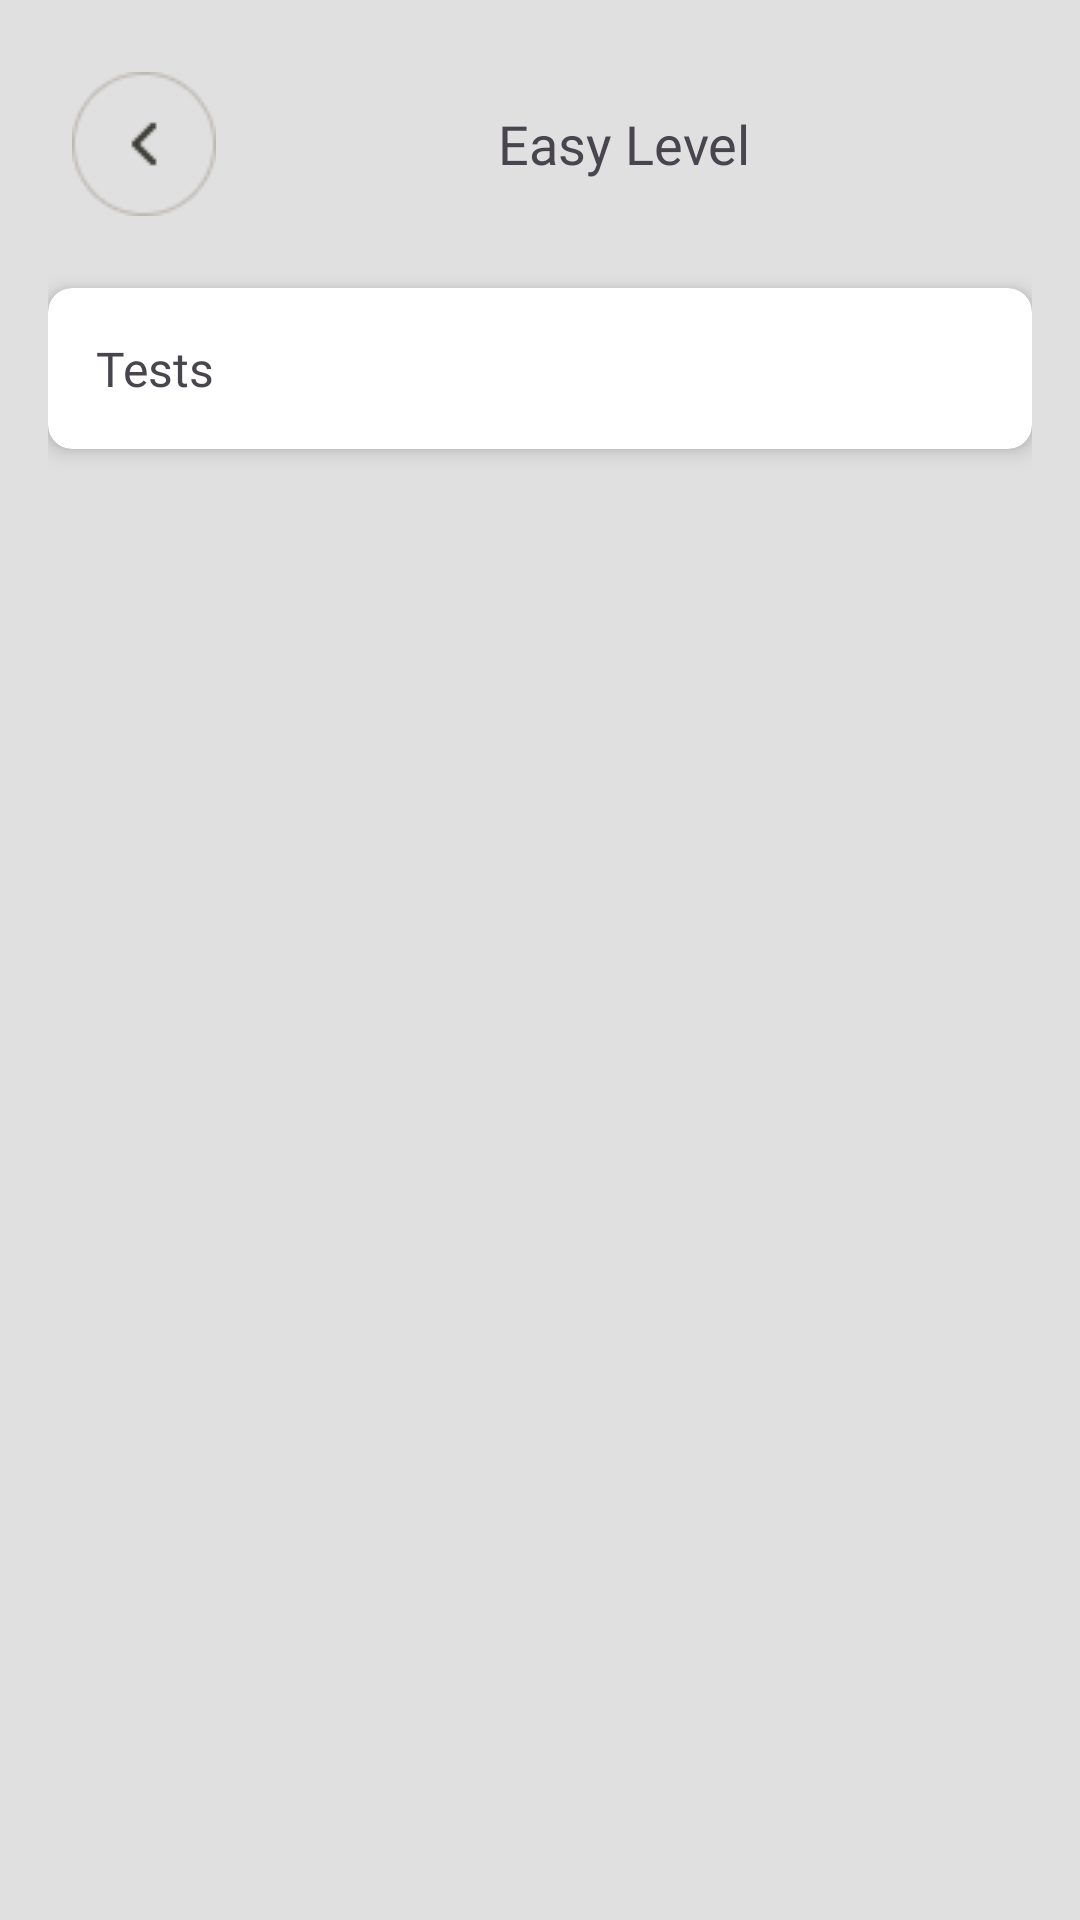

Locate icon controls on the screen. Image size 1080×1920, boxes as bbox=[x1, y1, x2, y2].
back: bbox=[72, 72, 216, 216]
